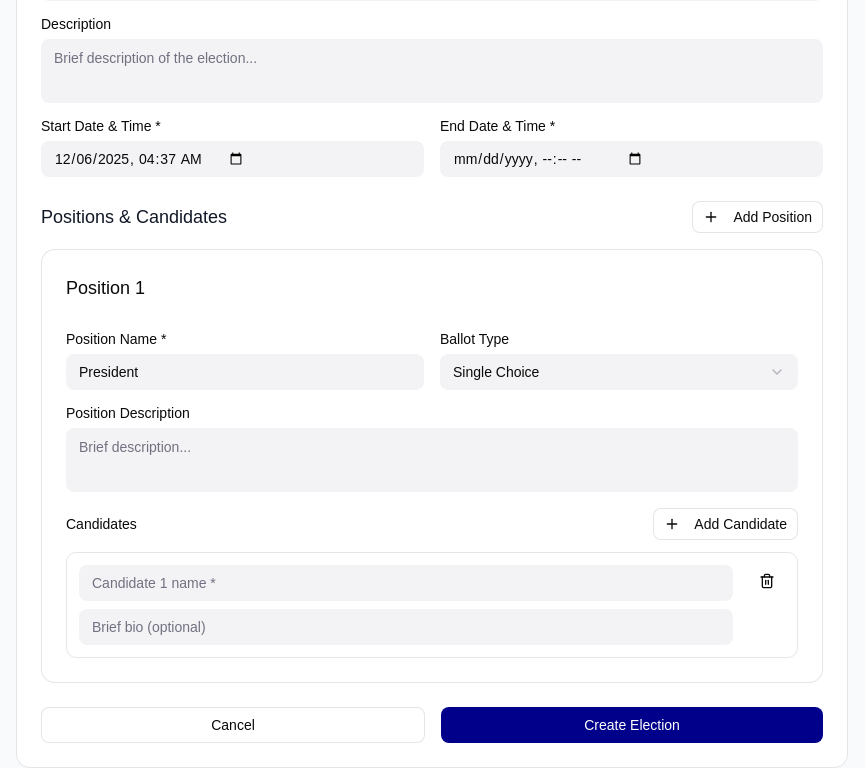
CreateElection Component Validation › detects and shows error for duplicate candidate names within the same position
(page scrolled)
Click the button "Add Candidate" at (726, 524), box [653,508,798,540]
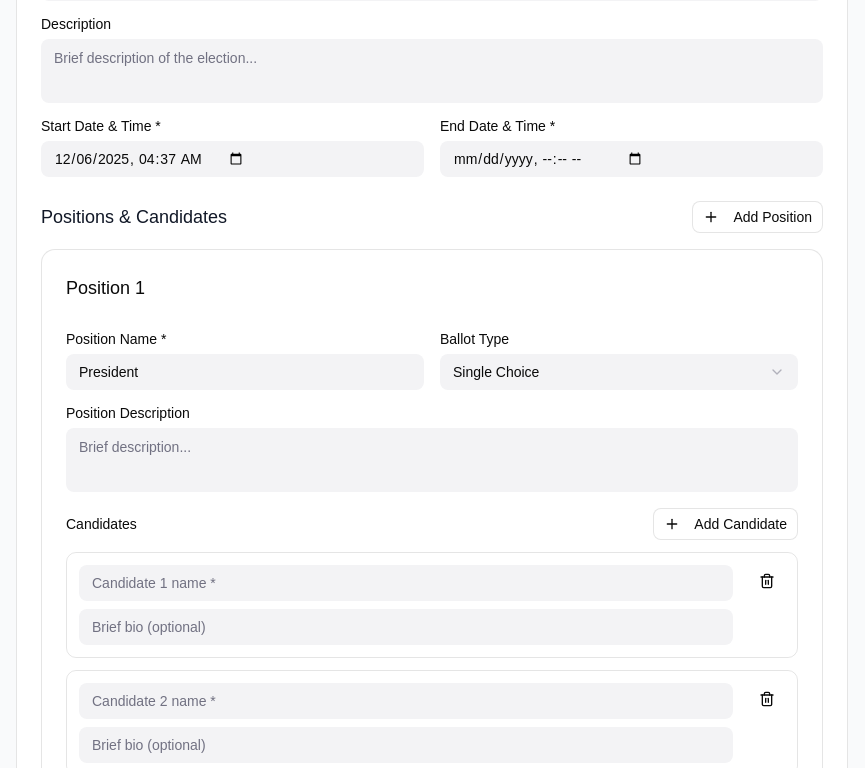
Type "Alice" into the field with placeholder "Candidate 1 name *" at (406, 583), box [79,565,733,601]
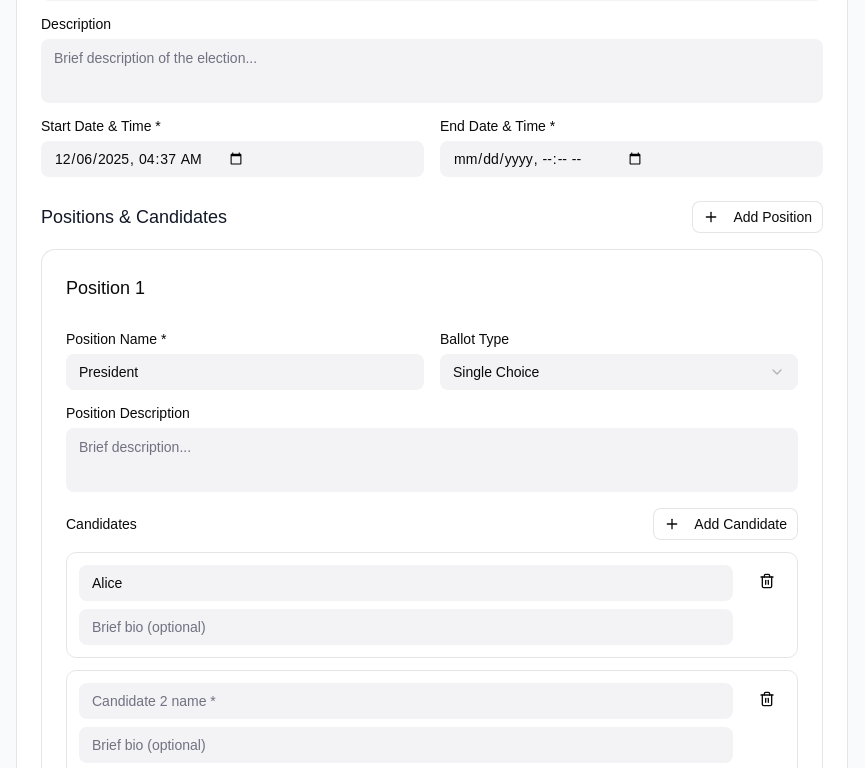
Type "Alice" into the field with placeholder "Candidate 2 name *" at (406, 701), box [79,683,733,719]
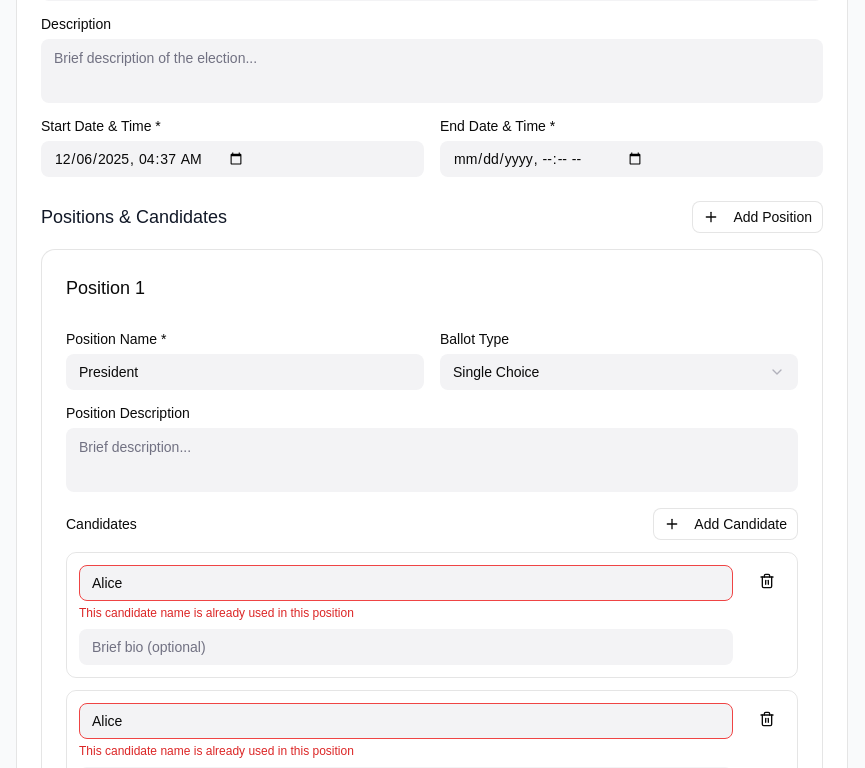
Expected: the 1st text "This candidate name is already used in this position" is shown, [79,606,354,620]
